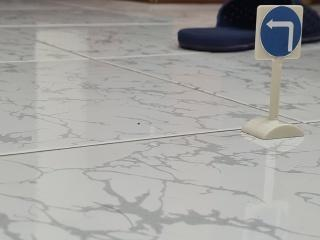left: (255, 4, 303, 59)
